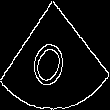O_NE: (31, 20, 79, 90)
